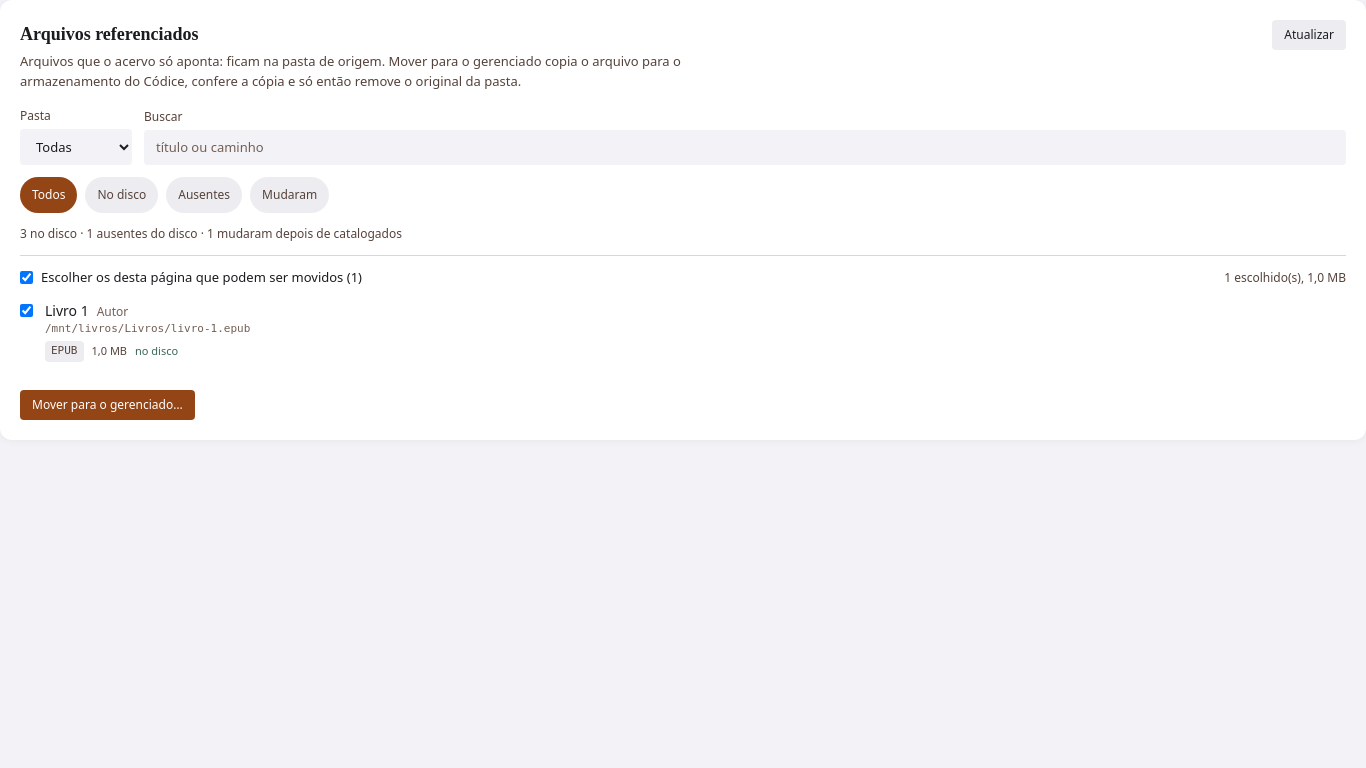
Test: ReferencedFiles: moving to the managed storage › says it could not follow the transfers when that fails, without losing what was asked
This screenshot has width=1366, height=768.
Click the button "Mover para o gerenciado…".
click(107, 404)  # box [20,390,195,420]
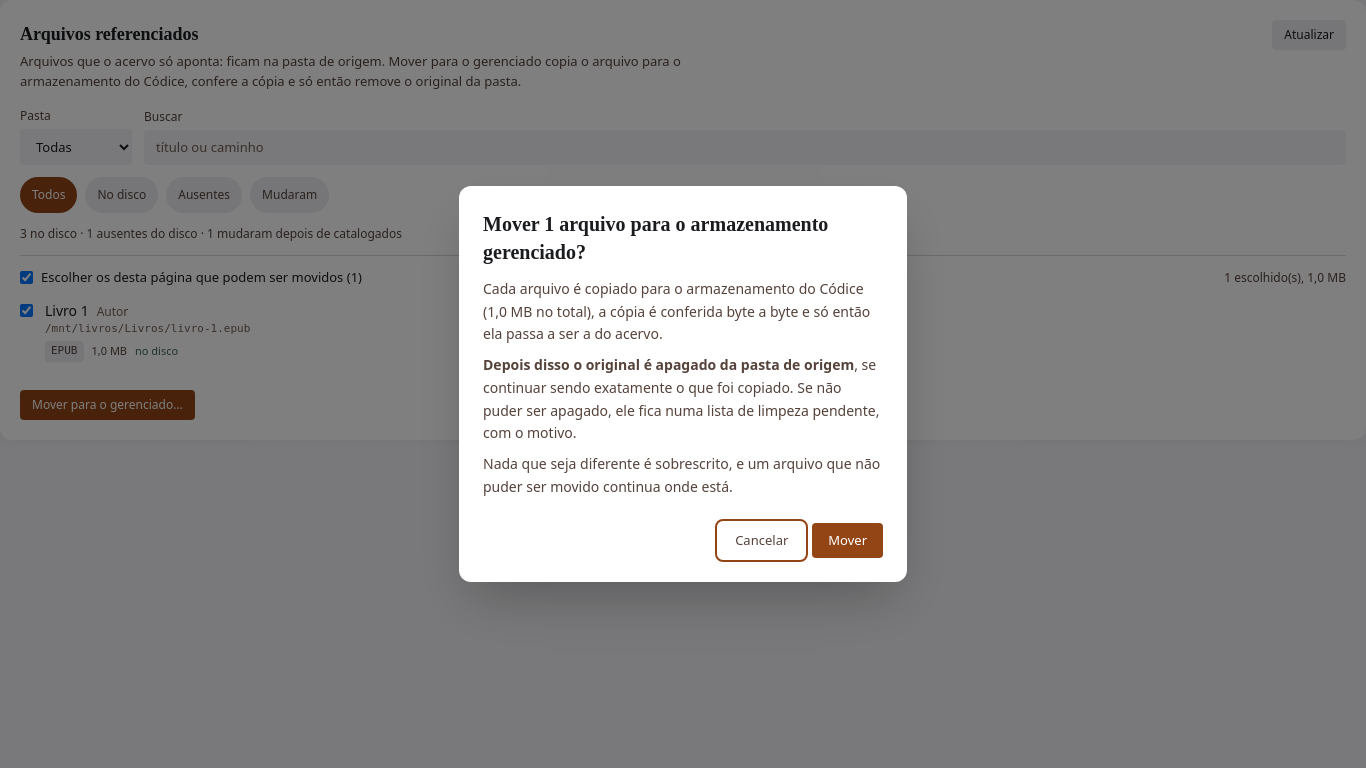
Click the button "Mover".
click(848, 540)  # box [812,523,883,558]
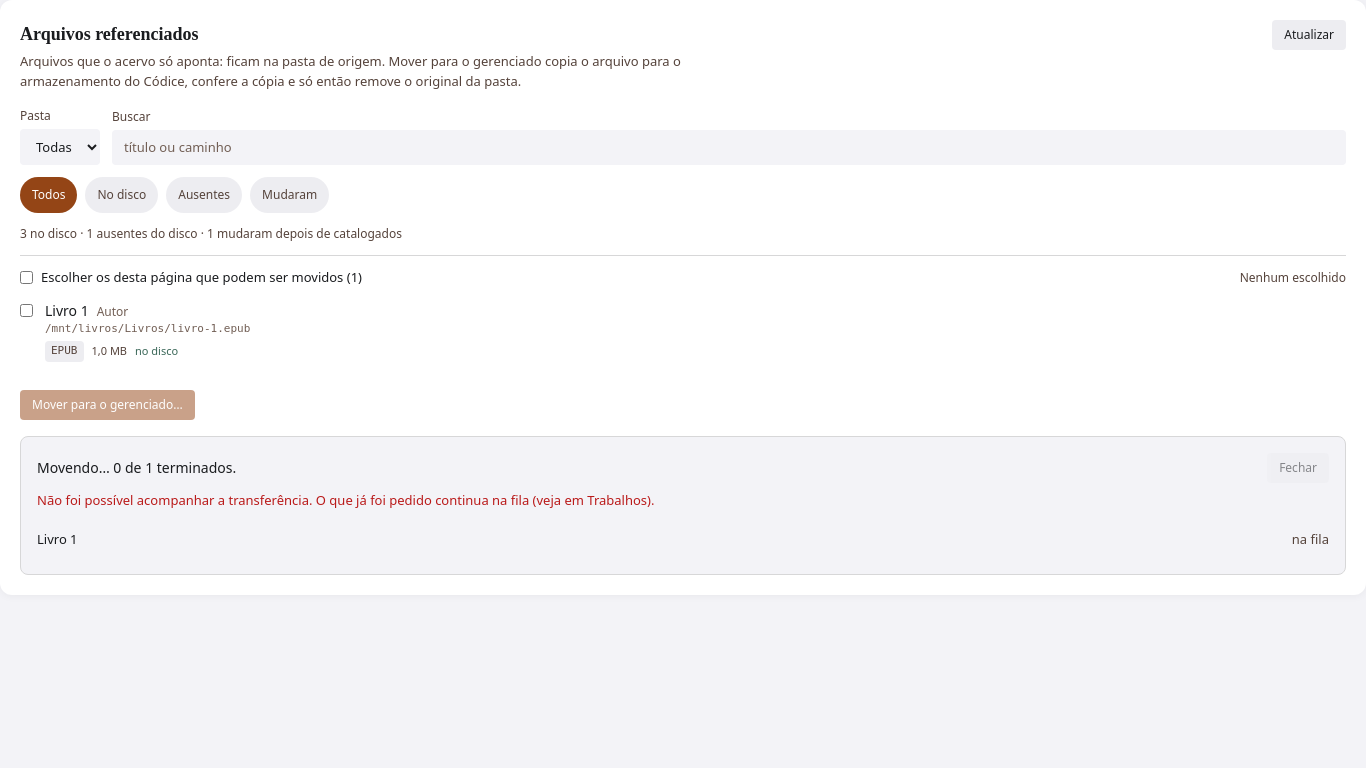
Now the element named "Resultado da transferência" shows "Não foi possível acompanhar a transferência", box [37,490,654,508]
Now the element named "Resultado da transferência" shows "Livro 1", box [37,530,78,548]
